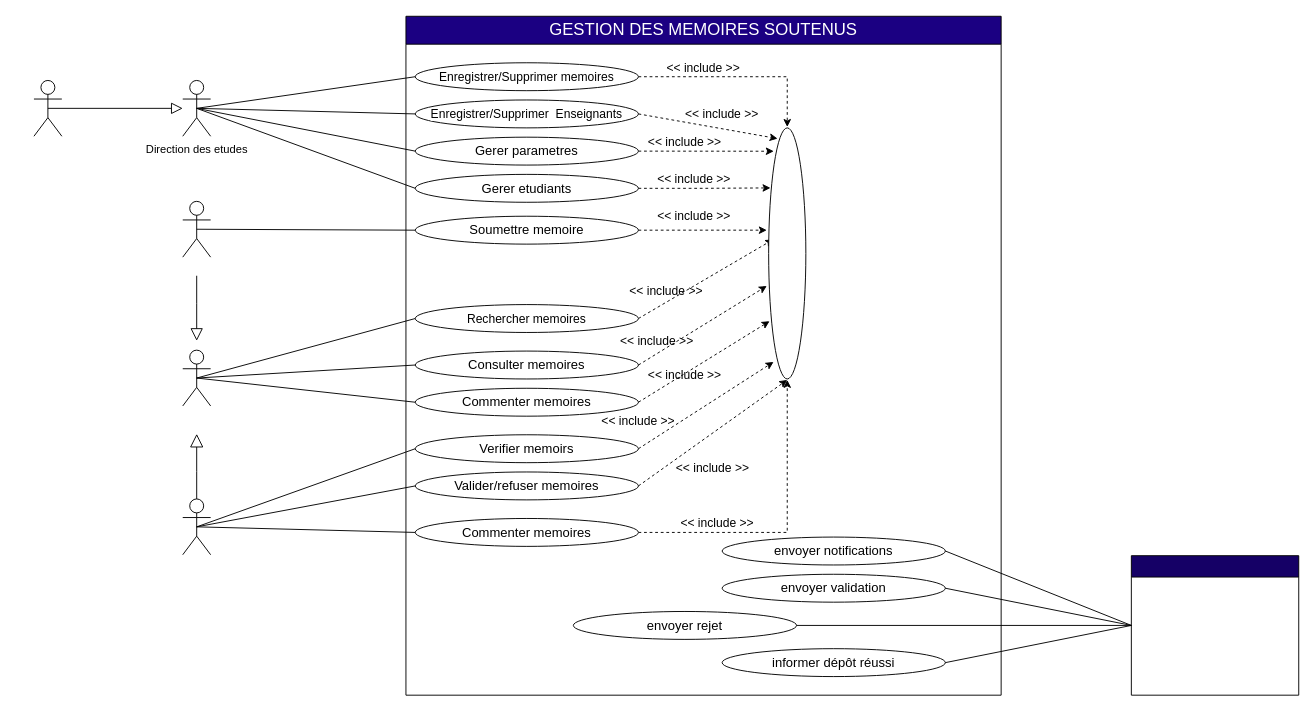
This 1315x711 diagram has some shape labels left out. The shapes that lost their labels are listed below. From the top down, each one's centre as x and y in pixels, then its label:
At point (47, 108): "Informaticien".
At point (196, 228): "Etudiants diplomes".
At point (787, 253): "S'authentifier".
At point (196, 377): "Etudiant".
At point (196, 526): "Enseignant".
At point (1214, 625): "Systeme de mail".
